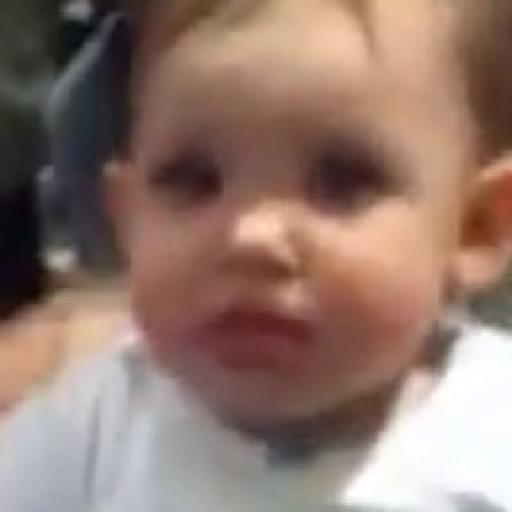Autism: (103, 0, 512, 413)
